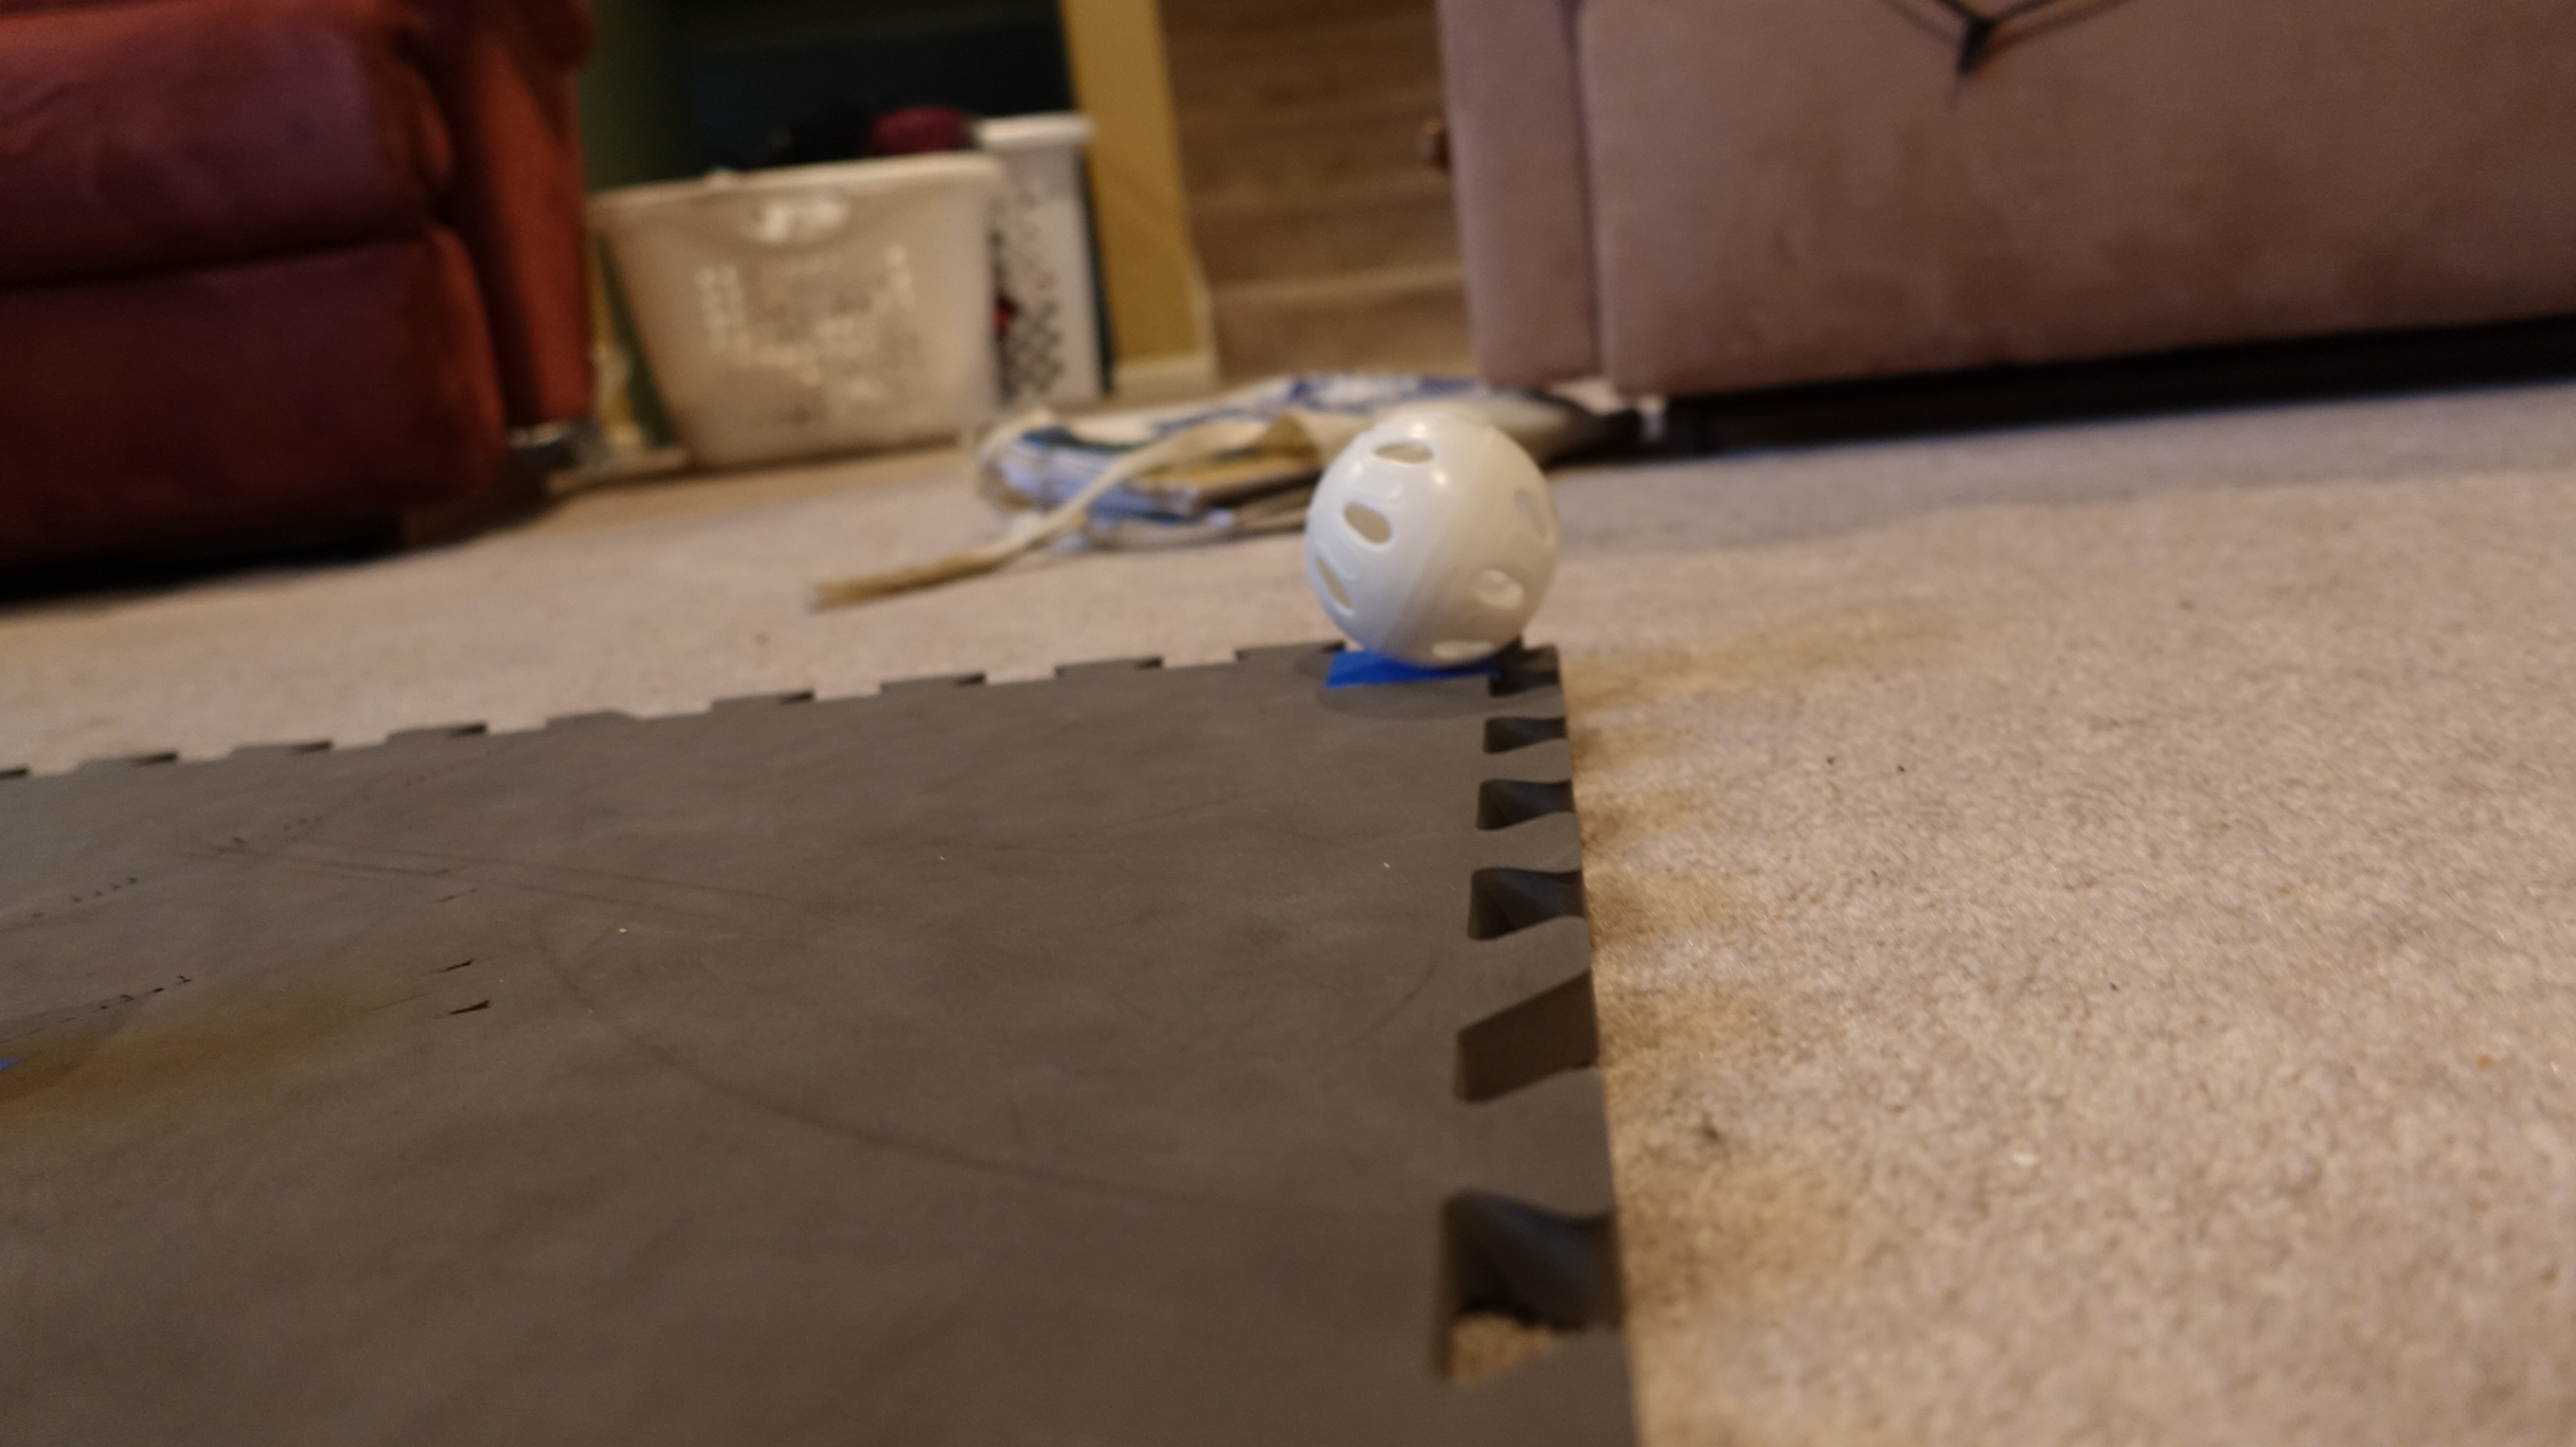silver: (1295, 416, 1560, 667)
